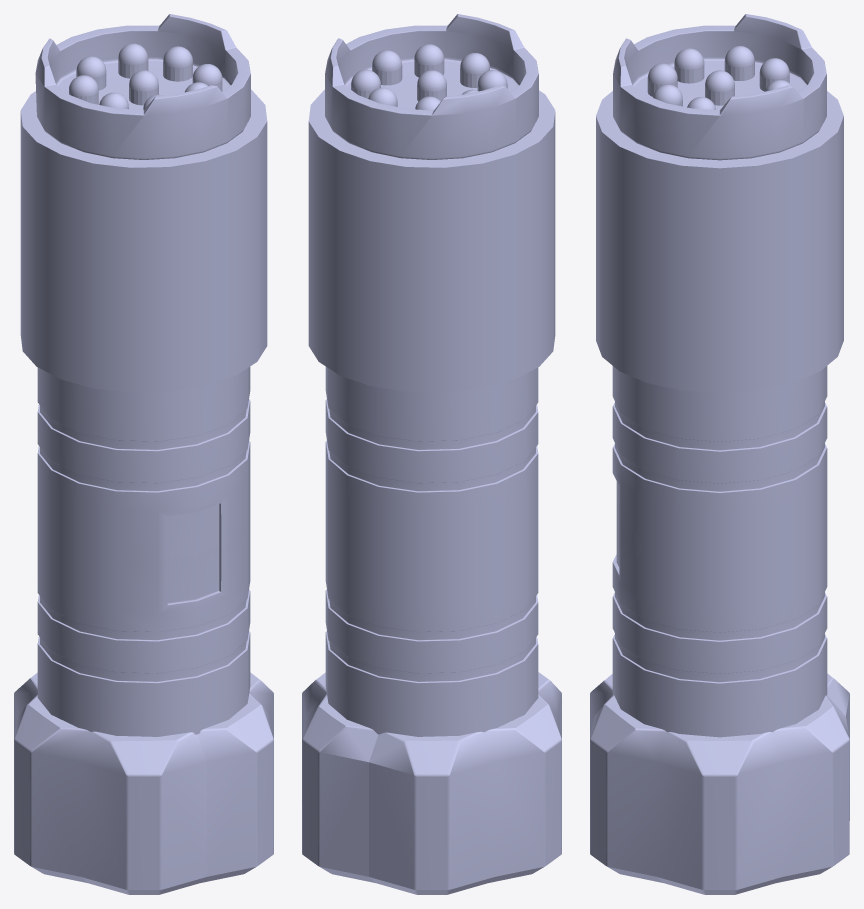
File: uvlight_mesh_WIP.fbx
The picture shows the model from 3 angles, left to right: view 1: azimuth 30°, elevation 25°; view 2: azimuth 150°, elevation 25°; view 3: azimuth 270°, elevation 25°; orthographic projection.
Parts seen in each view (by area): view 1: pCylinder75, pCylinder80, pCylinder78, pCylinder79, pSphere45, pSphere40, pSphere39, pSphere41, pSphere44, pSphere47; view 2: pCylinder75, pCylinder80, pCylinder78, pCylinder79, pSphere47, pSphere43, pSphere46, pSphere39, pSphere45; view 3: pCylinder75, pCylinder80, pCylinder78, pCylinder79, pSphere42, pSphere41, pSphere39, pSphere44, pSphere46.
Boxes of the visible parts, x1,y1,x2,y2 form: pCylinder75: (37,367,250,736); pCylinder80: (20,89,267,392); pCylinder78: (14,672,273,894); pCylinder79: (35,14,250,159); pSphere45: (163,46,192,81); pSphere40: (118,43,148,78); pSphere39: (129,70,158,105); pSphere41: (69,75,98,104); pSphere44: (76,56,106,90); pSphere47: (192,64,222,91); pCylinder75: (325,366,538,736); pCylinder80: (308,89,555,392); pCylinder78: (302,672,561,894); pCylinder79: (325,14,538,159); pSphere47: (372,50,402,85); pSphere43: (414,44,444,77); pSphere46: (460,53,489,87); pSphere39: (417,70,446,101); pSphere45: (351,69,380,98); pCylinder75: (612,366,827,737); pCylinder80: (596,91,843,392); pCylinder78: (590,673,849,894); pCylinder79: (613,14,826,160); pSphere42: (674,48,704,83); pSphere41: (724,46,754,80); pSphere39: (705,70,734,105); pSphere44: (759,58,789,91); pSphere46: (647,63,677,96).
Size of the model in its own units: 2.62 by 8.3 by 2.42.
